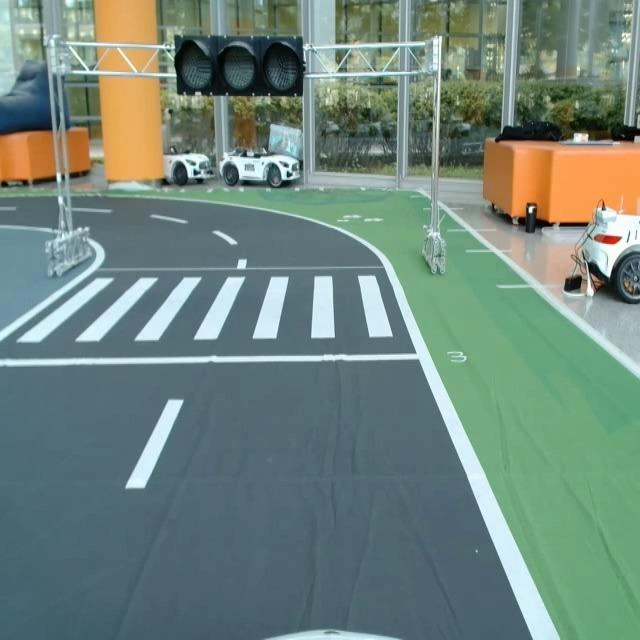traffic-light: (168, 31, 308, 98)
